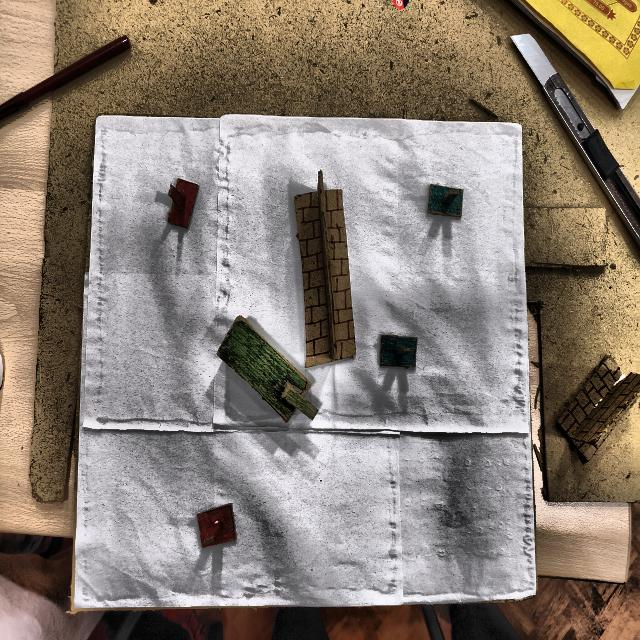Tank: (216, 318, 319, 428)
Wall: (292, 177, 358, 371)
enemy: (192, 498, 241, 567), (164, 177, 201, 231)
friend: (378, 332, 424, 377), (425, 182, 468, 222)
